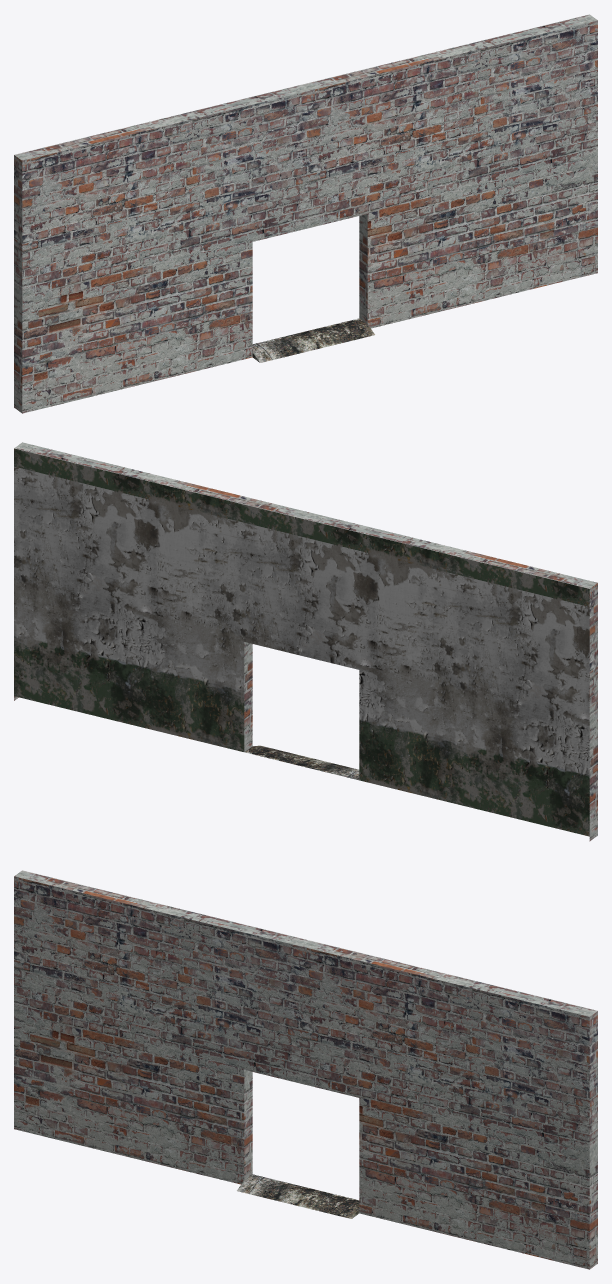
Rendered from Factory2Wall02.FBX.
3 views of the same model, one above another, from view 1: azimuth 30°, elevation 25°; view 2: azimuth 150°, elevation 25°; view 3: azimuth 330°, elevation 25° (orthographic).
Parts seen in each view (by area): view 1: Factory2Wall02; view 2: Factory2Wall02; view 3: Factory2Wall02.
Boxes of the visible parts, x1,y1,x2,y2 form: Factory2Wall02: (14, 14, 597, 413); Factory2Wall02: (14, 442, 597, 841); Factory2Wall02: (14, 870, 597, 1269).
Size of the model in its own units: 1200 by 503 by 58.01.
